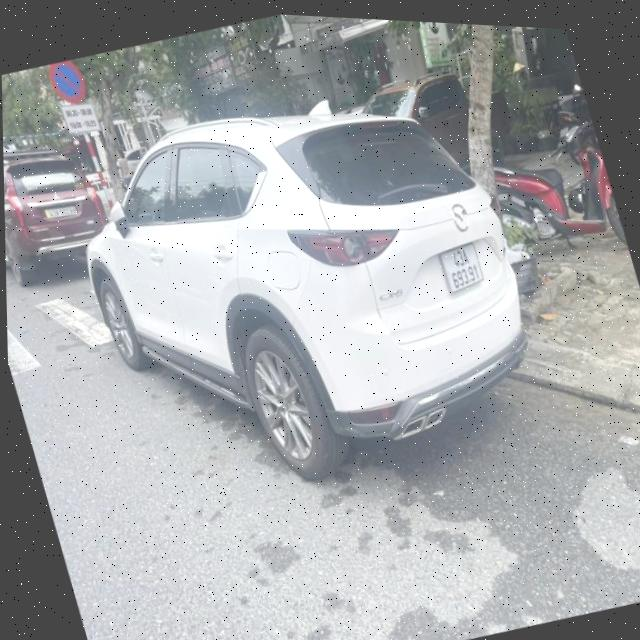car: (43, 40, 574, 536), (3, 127, 125, 295)
motorcycle: (474, 94, 633, 292)
plate: (428, 234, 496, 301), (40, 191, 85, 228)
